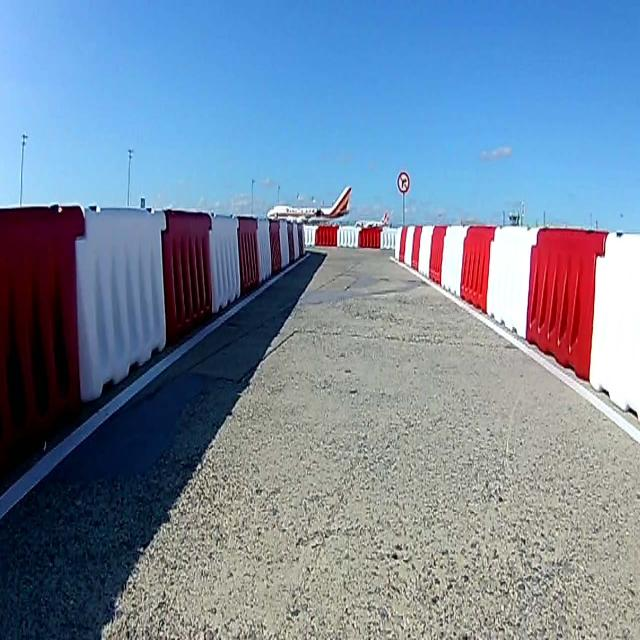sagadonulmez: (398, 171, 410, 193)
